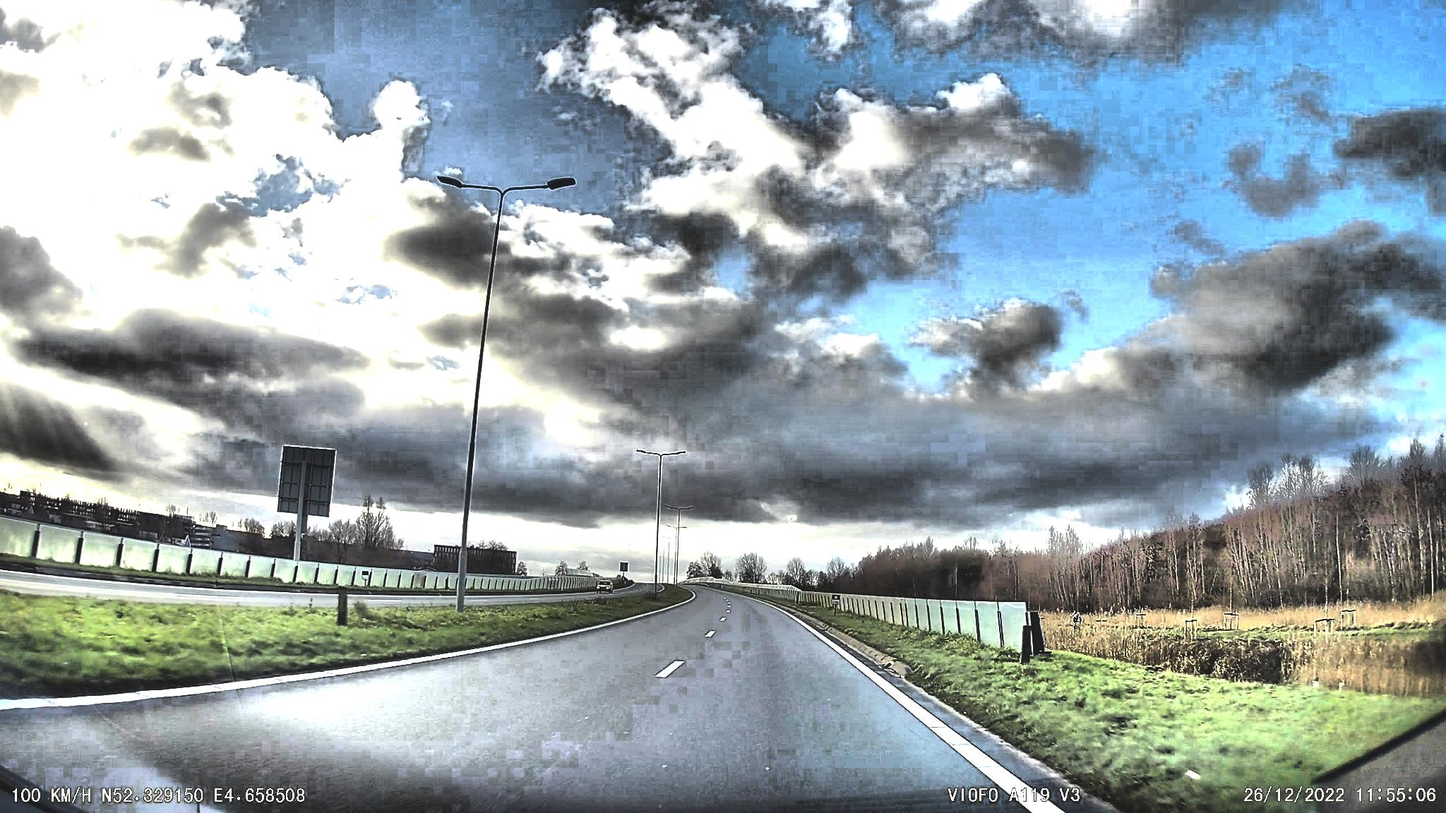Roads: (0, 595, 1123, 813)
